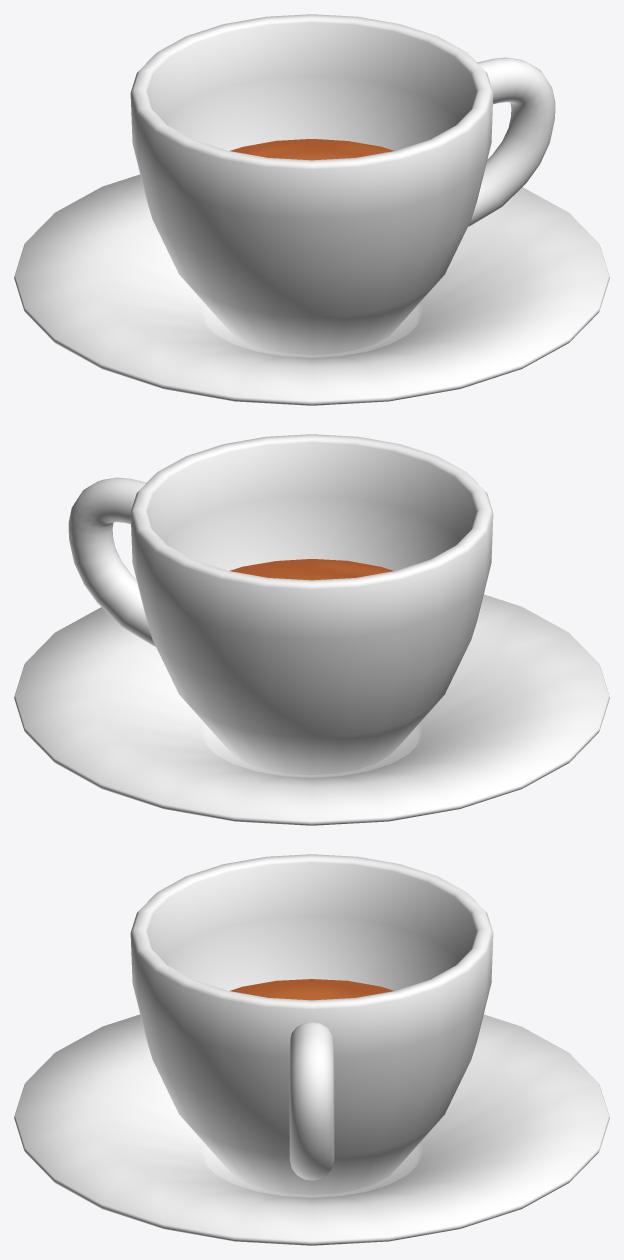
File: TeaCup_Low.fbx
3 views of the same model, one above another, from view 1: azimuth 30°, elevation 25°; view 2: azimuth 150°, elevation 25°; view 3: azimuth 270°, elevation 25° (orthographic).
Parts seen in each view (by area): view 1: Circle; view 2: Circle; view 3: Circle.
Boxes of the visible parts, bbox=[...] form: Circle: bbox=[14, 14, 609, 405]; Circle: bbox=[14, 434, 609, 825]; Circle: bbox=[14, 854, 609, 1245].
Bounding box in the file's own units: 466 × 205 × 466.
